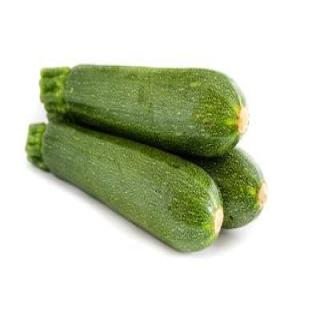Zucchini: (27, 123, 223, 250), (40, 65, 248, 157), (192, 148, 266, 227)
